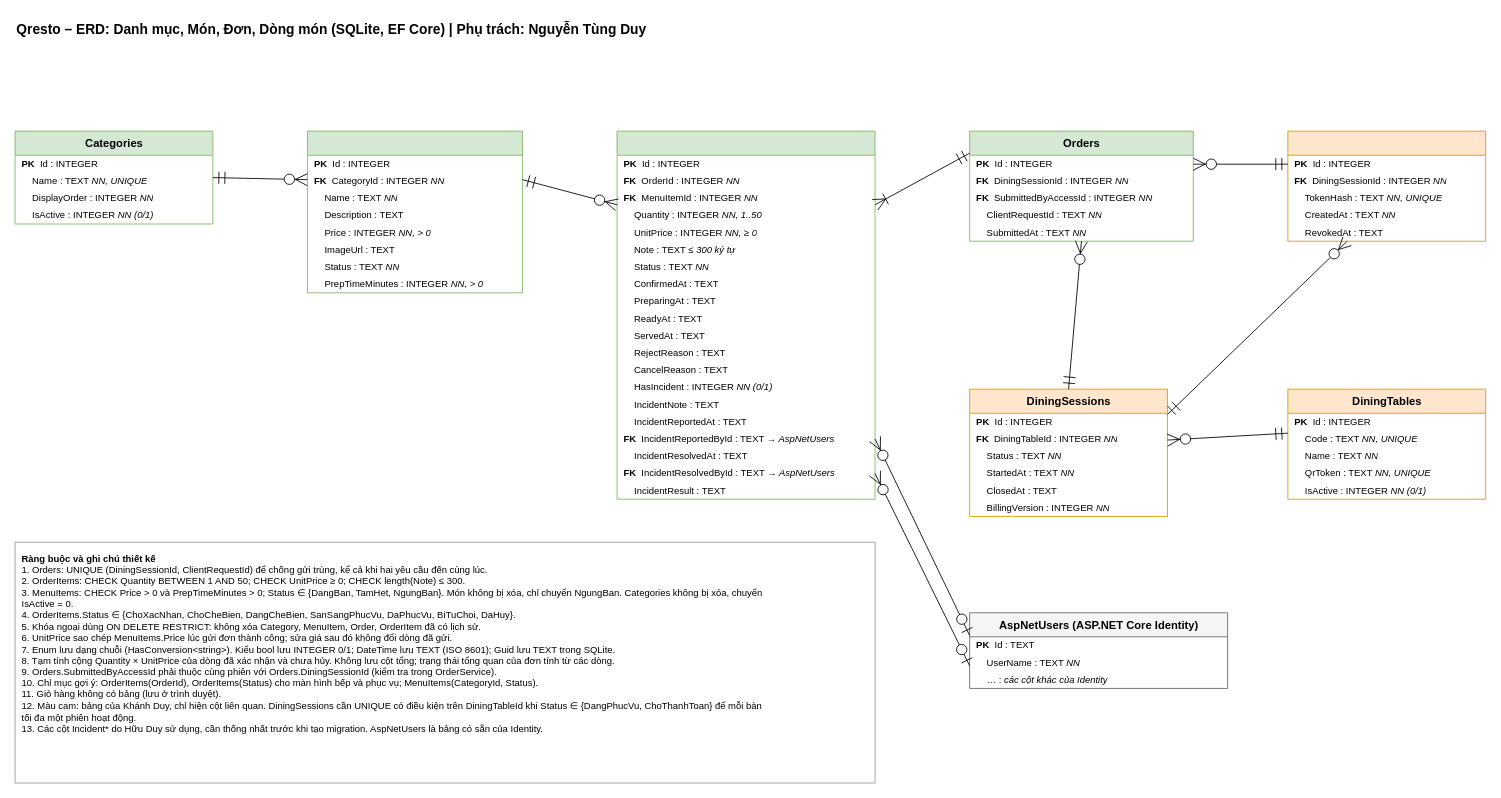
Image size: 1501x798. Some labels were removed from this diagram. The shapes that lost their labels are listed below. From the top down, each one's box as (x1, y1, x2, y2) in pixels, then its label:
(1287, 130, 1486, 241): SessionAccesses
(307, 130, 522, 293): MenuItems
(616, 130, 875, 499): OrderItems
